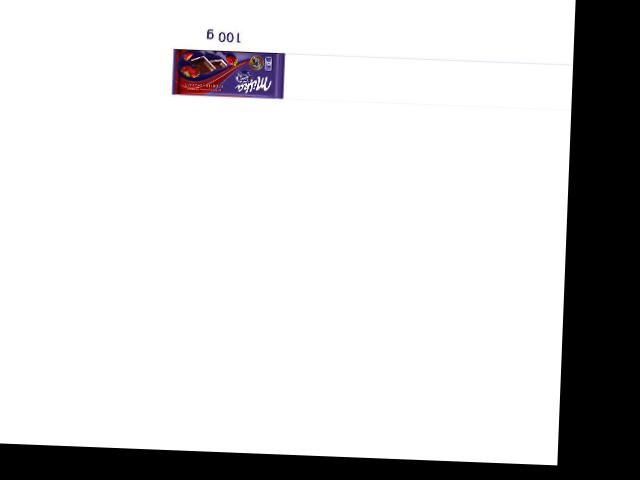chocolate: (171, 43, 284, 99)
